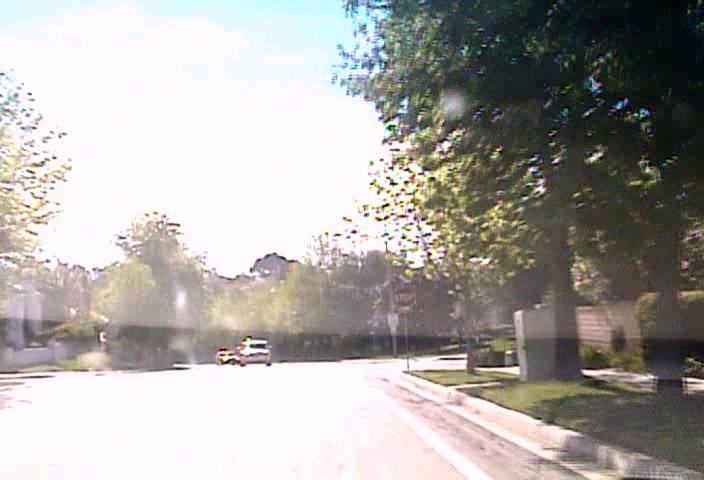stop: (392, 284, 415, 308)
